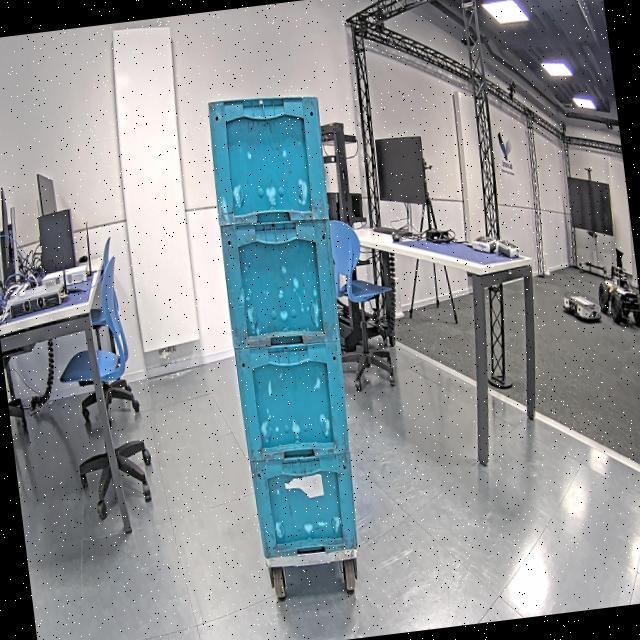BoxB4: (200, 83, 374, 564)
